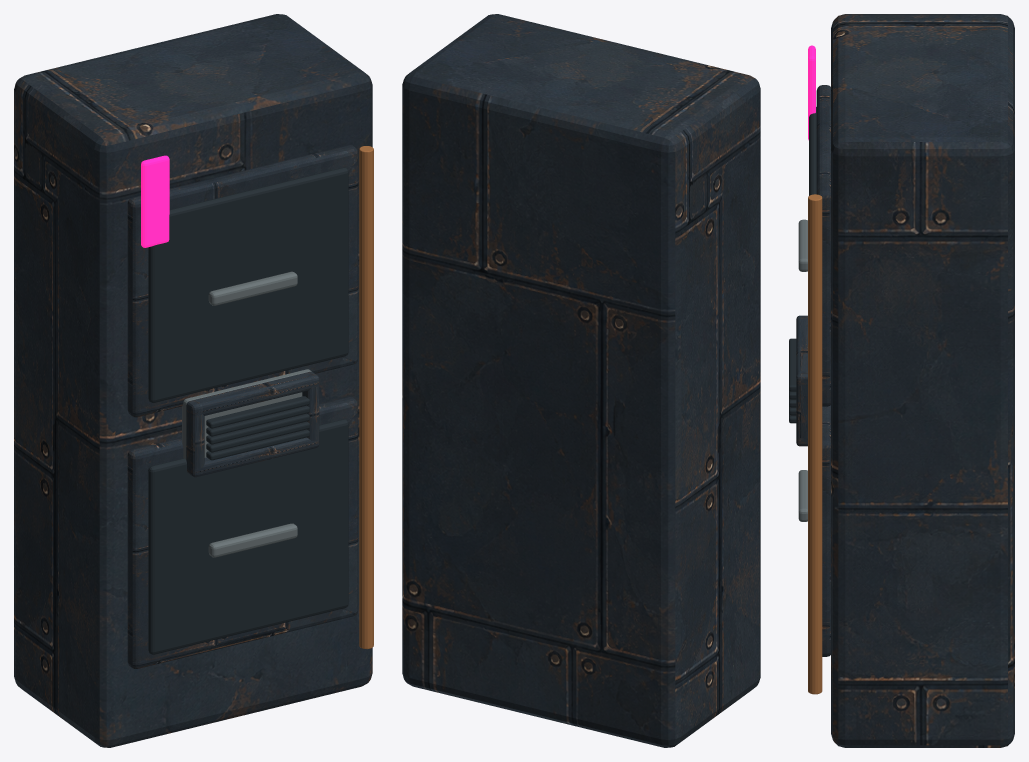
File: APT_Cabinet_Tall_Wardrobe.glb
3 renders of one model, left to right at view 1: azimuth 30°, elevation 25°; view 2: azimuth 150°, elevation 25°; view 3: azimuth 270°, elevation 25°, orthographic.
Visible parts, largest first — view 1: APT_Cabinet_Tall_Wardrobe_Body, APT_Cabinet_Tall_Wardrobe_Upper_Inset, APT_Cabinet_Tall_Wardrobe_Lower_Inset, APT_Cabinet_Tall_Wardrobe_Upper_Face, APT_Cabinet_Tall_Wardrobe_Lower_Face, APT_Cabinet_Tall_Wardrobe_Pipe, APT_Cabinet_Tall_Wardrobe_Status, APT_Cabinet_Tall_Wardrobe_Vent_Top, APT_Cabinet_Tall_Wardrobe_Vent_Bottom, APT_Cabinet_Tall_Wardrobe_Lower_Handle, APT_Cabinet_Tall_Wardrobe_Upper_Handle, APT_Cabinet_Tall_Wardrobe_Vent_Recess (+7 smaller); view 2: APT_Cabinet_Tall_Wardrobe_Body; view 3: APT_Cabinet_Tall_Wardrobe_Body, APT_Cabinet_Tall_Wardrobe_Pipe, APT_Cabinet_Tall_Wardrobe_Upper_Face, APT_Cabinet_Tall_Wardrobe_Lower_Face, APT_Cabinet_Tall_Wardrobe_Vent_Top, APT_Cabinet_Tall_Wardrobe_Vent_Right, APT_Cabinet_Tall_Wardrobe_Upper_Inset, APT_Cabinet_Tall_Wardrobe_Status, APT_Cabinet_Tall_Wardrobe_Upper_Handle, APT_Cabinet_Tall_Wardrobe_Lower_Handle, APT_Cabinet_Tall_Wardrobe_Vent_Slat_04.
Part boxes in pixels (box(x1,y1,x2,y2)): APT_Cabinet_Tall_Wardrobe_Body: box(14, 14, 372, 747); APT_Cabinet_Tall_Wardrobe_Upper_Inset: box(148, 167, 348, 402); APT_Cabinet_Tall_Wardrobe_Lower_Inset: box(148, 419, 348, 654); APT_Cabinet_Tall_Wardrobe_Upper_Face: box(127, 145, 358, 417); APT_Cabinet_Tall_Wardrobe_Lower_Face: box(127, 397, 358, 668); APT_Cabinet_Tall_Wardrobe_Pipe: box(359, 146, 373, 649); APT_Cabinet_Tall_Wardrobe_Status: box(141, 155, 169, 247); APT_Cabinet_Tall_Wardrobe_Vent_Top: box(186, 373, 319, 415); APT_Cabinet_Tall_Wardrobe_Vent_Bottom: box(187, 437, 319, 477); APT_Cabinet_Tall_Wardrobe_Lower_Handle: box(208, 523, 297, 557); APT_Cabinet_Tall_Wardrobe_Upper_Handle: box(208, 271, 297, 305); APT_Cabinet_Tall_Wardrobe_Vent_Recess: box(182, 369, 311, 459); APT_Cabinet_Tall_Wardrobe_Body: box(402, 14, 760, 747); APT_Cabinet_Tall_Wardrobe_Body: box(831, 14, 1014, 747); APT_Cabinet_Tall_Wardrobe_Pipe: box(808, 194, 822, 694); APT_Cabinet_Tall_Wardrobe_Upper_Face: box(816, 85, 830, 406); APT_Cabinet_Tall_Wardrobe_Lower_Face: box(822, 405, 830, 656); APT_Cabinet_Tall_Wardrobe_Vent_Top: box(796, 318, 807, 385); APT_Cabinet_Tall_Wardrobe_Vent_Right: box(796, 371, 807, 446); APT_Cabinet_Tall_Wardrobe_Upper_Inset: box(809, 107, 816, 195); APT_Cabinet_Tall_Wardrobe_Status: box(808, 45, 815, 140); APT_Cabinet_Tall_Wardrobe_Upper_Handle: box(798, 219, 807, 271); APT_Cabinet_Tall_Wardrobe_Lower_Handle: box(798, 470, 807, 521); APT_Cabinet_Tall_Wardrobe_Vent_Slat_04: box(789, 338, 796, 391).
Bounding box in the file's own units: 1 × 2.12 × 0.7125.
Materials: 5 (1 with a texture image).
